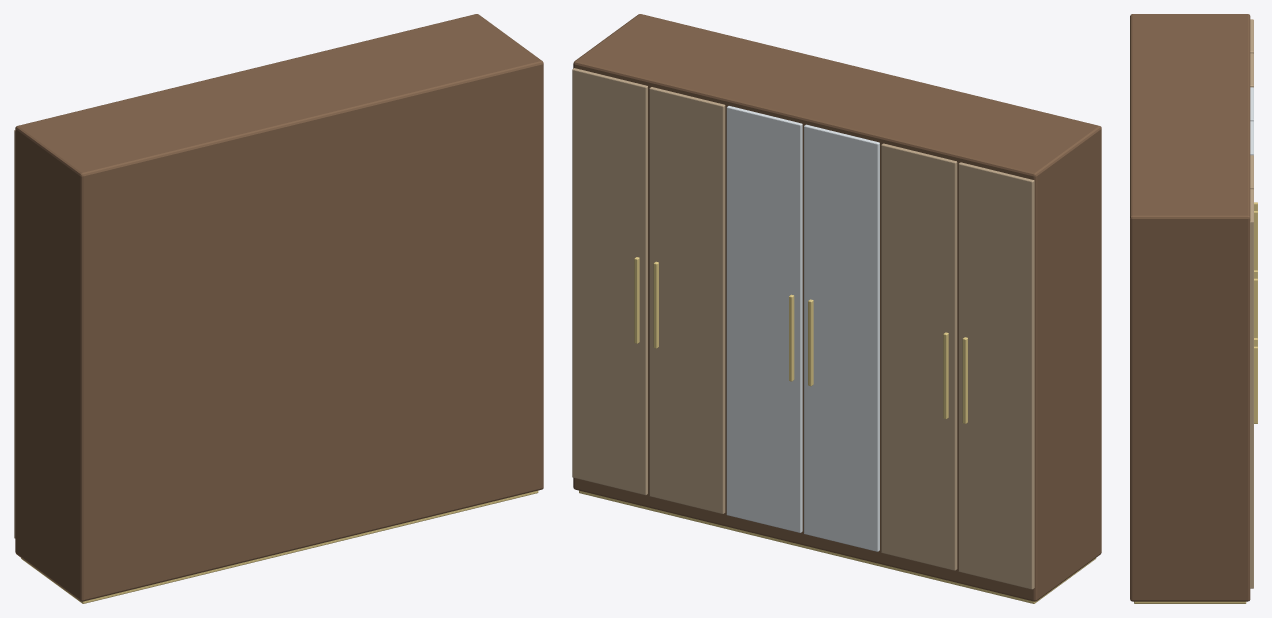
The model's file is gardirop.glb.
3 views of the same model, side by side, from view 1: azimuth 30°, elevation 25°; view 2: azimuth 150°, elevation 25°; view 3: azimuth 270°, elevation 25° (orthographic). The views are drawn at different scales.
Visible parts, largest first — view 1: WR_Main, WR_Plinth, WR_Door_0; view 2: WR_Main, WR_Door_1, WR_Door_0, WR_Door_3, WR_Door_4, WR_Door_5, WR_Door_2, WR_Plinth; view 3: WR_Main, WR_Door_5, WR_Plinth, WR_Handle_5, WR_Handle_1, WR_Handle_3.
Boxes of the visible parts, x1,y1,x2,y2 form: WR_Main: (15,14,543,601); WR_Plinth: (21,490,538,603); WR_Door_0: (14,130,15,538); WR_Main: (573,14,1101,601); WR_Door_1: (881,143,957,570); WR_Door_0: (958,162,1034,589); WR_Door_3: (726,106,802,532); WR_Door_4: (649,87,725,513); WR_Door_5: (572,68,647,495); WR_Door_2: (804,124,879,551); WR_Plinth: (579,490,1096,603); WR_Main: (1130,14,1250,601); WR_Door_5: (1250,189,1253,588); WR_Plinth: (1134,601,1246,603); WR_Handle_5: (1254,346,1257,423); WR_Handle_1: (1254,211,1257,270); WR_Handle_3: (1254,278,1257,337).
Bounding box in the file's own units: 2.4 × 2.14 × 0.6375.
